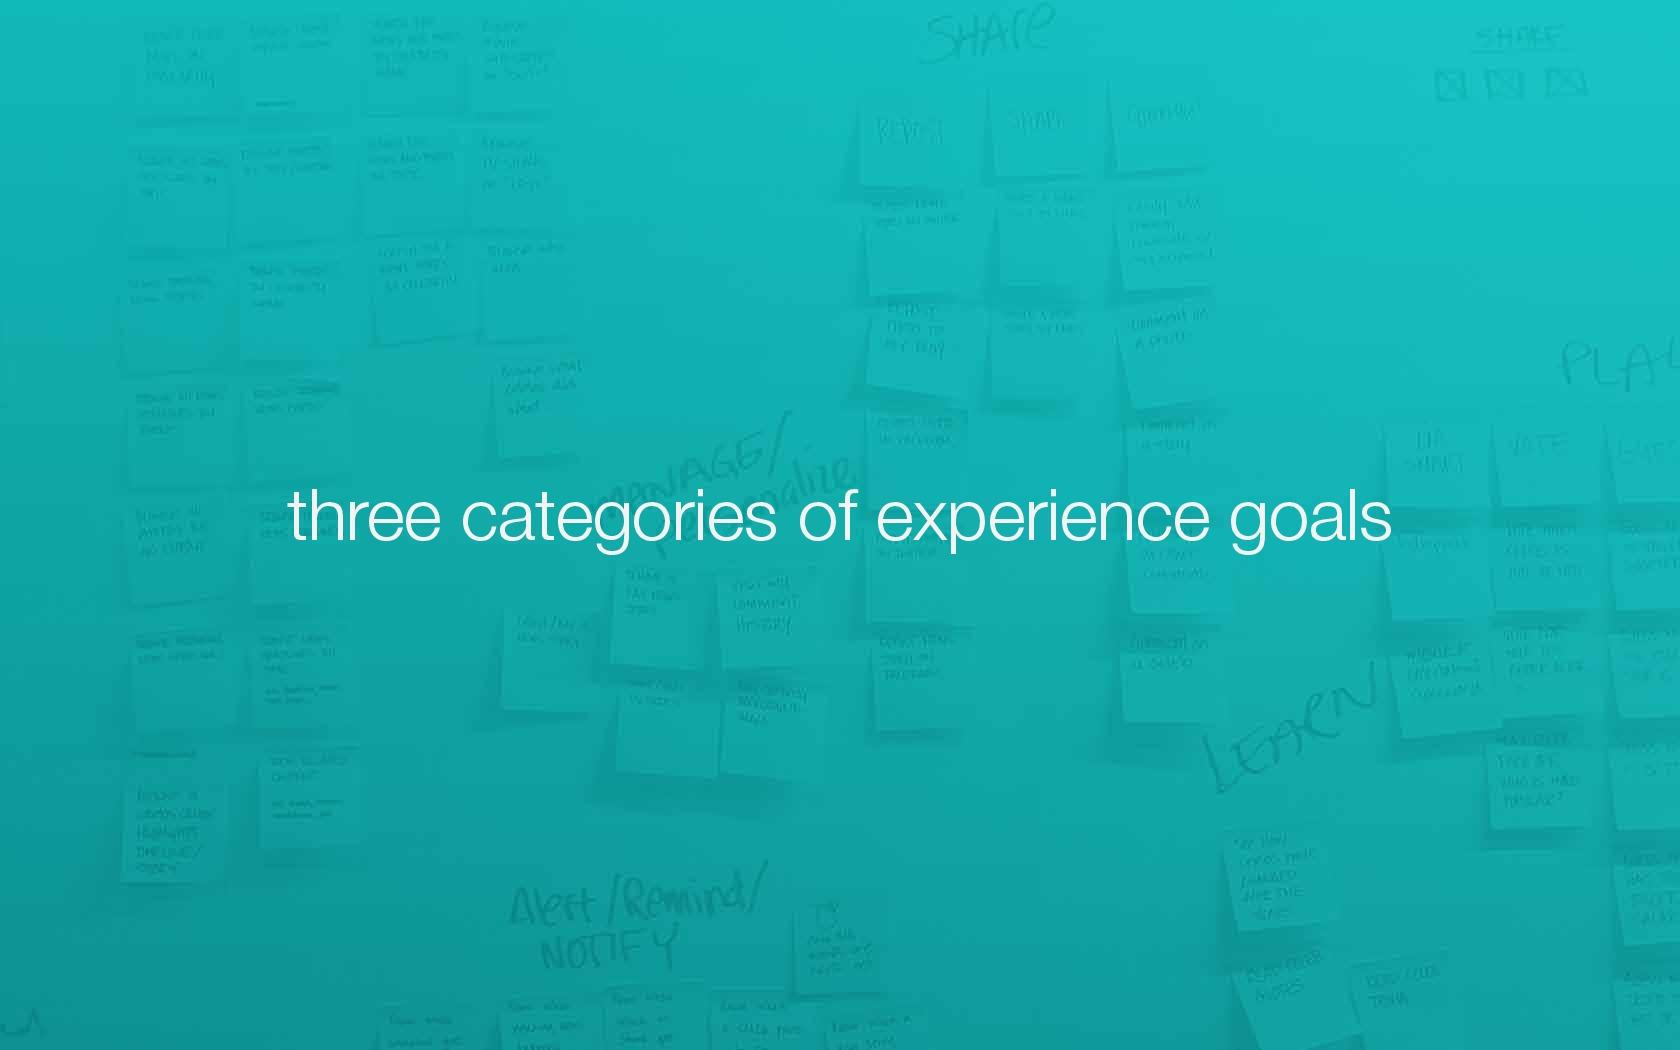title: (254, 460, 1402, 584)
